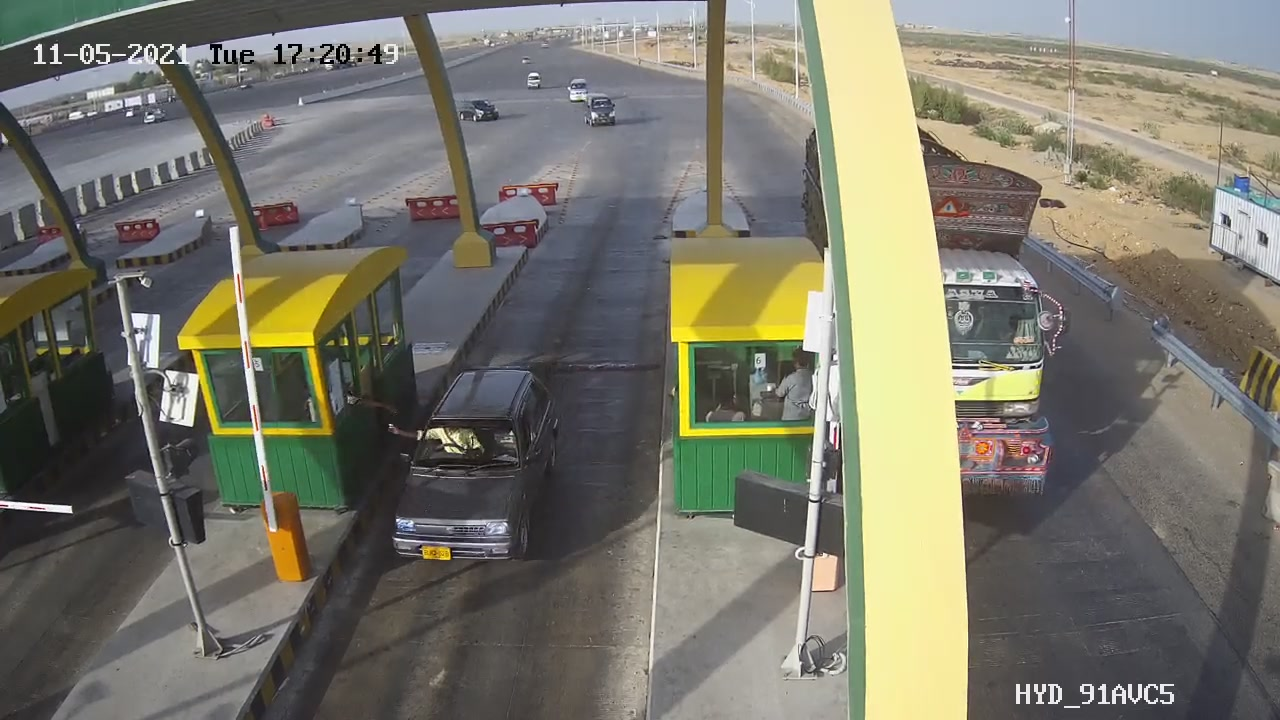F1: (382, 355, 574, 578)
